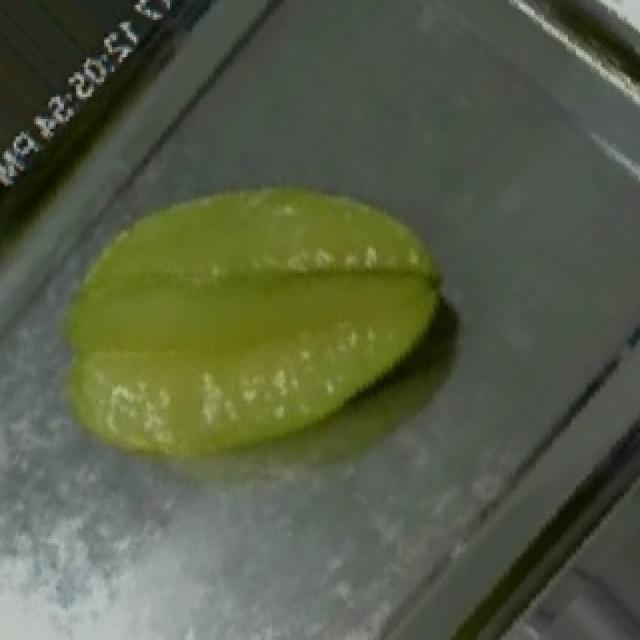fruit: (70, 106, 500, 518)
